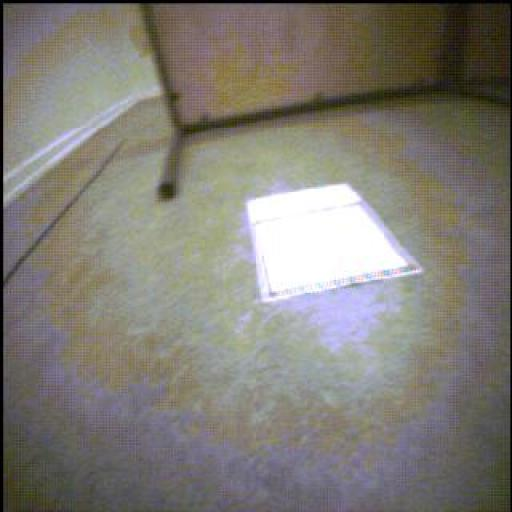Pad: (248, 185, 424, 302)
